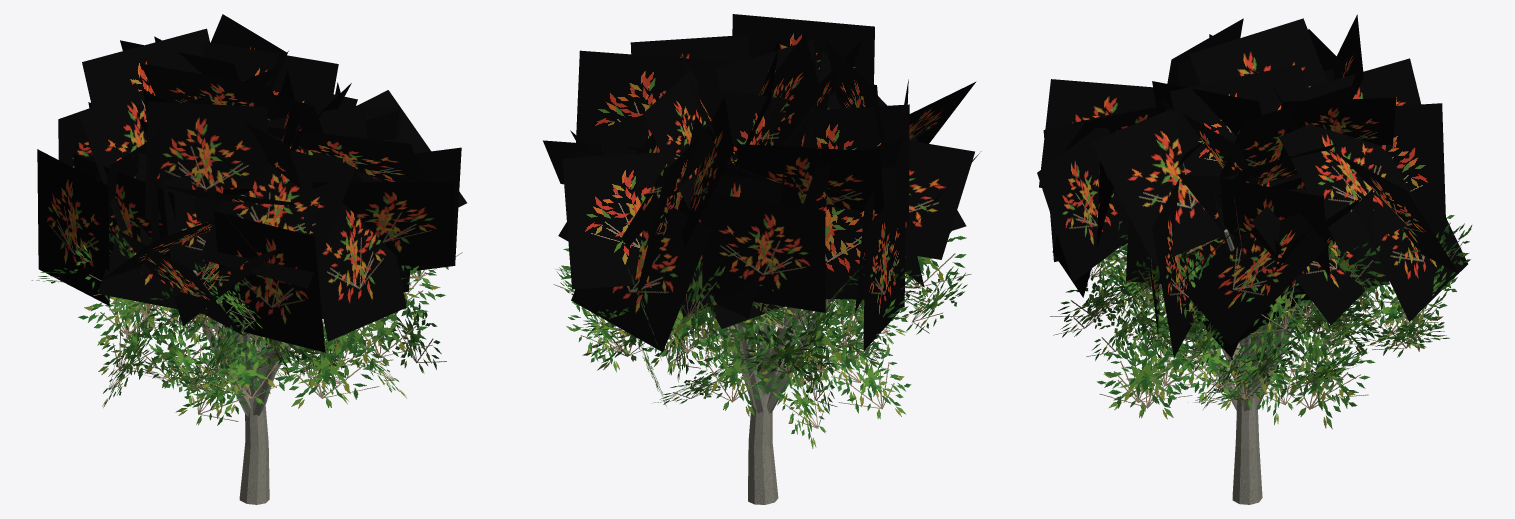
The model's file is bunga_pucuk_merah.glb.
The picture shows the model from 3 angles, left to right: view 1: azimuth 30°, elevation 25°; view 2: azimuth 150°, elevation 25°; view 3: azimuth 270°, elevation 25°; orthographic projection. The views are drawn at different scales.
Visible parts, largest first — view 1: Pucuk_Daun_Merah_Oranye, Daun_Hijau_Pucuk_Merah, Batang_Pucuk_Merah; view 2: Pucuk_Daun_Merah_Oranye, Daun_Hijau_Pucuk_Merah, Batang_Pucuk_Merah; view 3: Pucuk_Daun_Merah_Oranye, Daun_Hijau_Pucuk_Merah, Batang_Pucuk_Merah.
Part boxes in pixels (x1=…): Pucuk_Daun_Merah_Oranye: x1=37, y1=14, x2=466, y2=352; Daun_Hijau_Pucuk_Merah: x1=31, y1=227, x2=462, y2=425; Batang_Pucuk_Merah: x1=193, y1=270, x2=291, y2=504; Pucuk_Daun_Merah_Oranye: x1=543, y1=14, x2=981, y2=351; Daun_Hijau_Pucuk_Merah: x1=553, y1=231, x2=971, y2=448; Batang_Pucuk_Merah: x1=711, y1=299, x2=830, y2=504; Pucuk_Daun_Merah_Oranye: x1=1037, y1=14, x2=1467, y2=357; Daun_Hijau_Pucuk_Merah: x1=1050, y1=215, x2=1472, y2=429; Batang_Pucuk_Merah: x1=1193, y1=229, x2=1305, y2=504.
Bounding box in the file's own units: 1.75 × 1.75 × 1.74.
3 materials, 3 textured.
